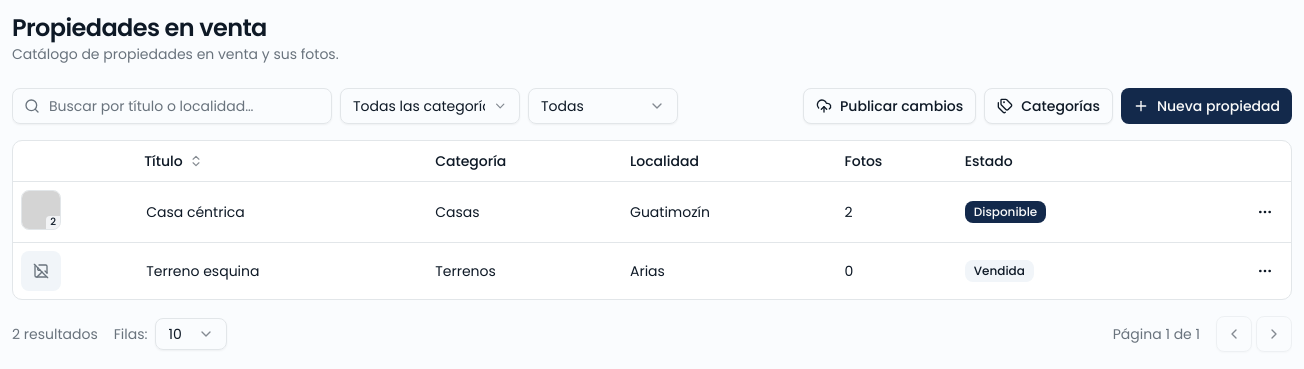
it: SalesPropertiesPage › filtra por vendidas
Check: the text "Casa céntrica" is shown, box left=138, top=181, right=427, bottom=242
Click the dropdown named "Filtrar por estado".
click(603, 106)  # box left=528, top=88, right=678, bottom=124
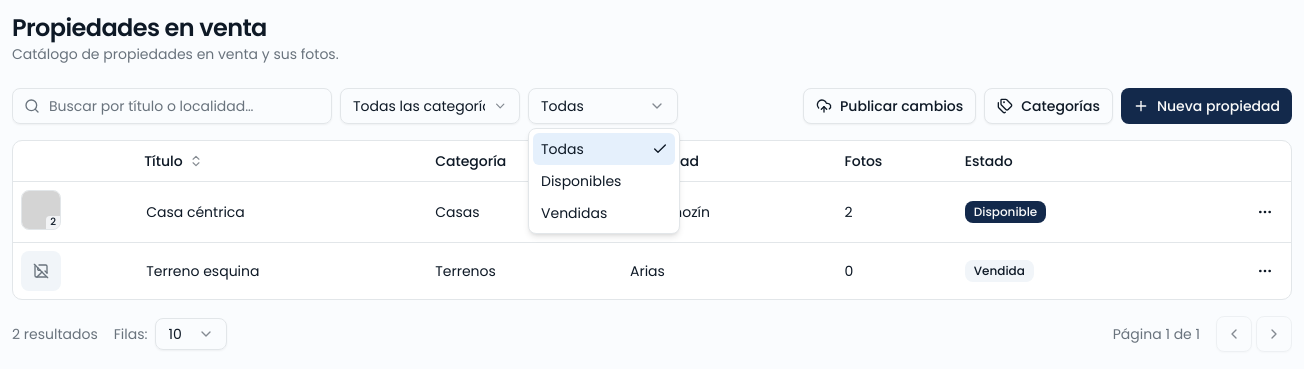
Click the option "Vendidas".
click(574, 213)  # box left=541, top=203, right=607, bottom=223
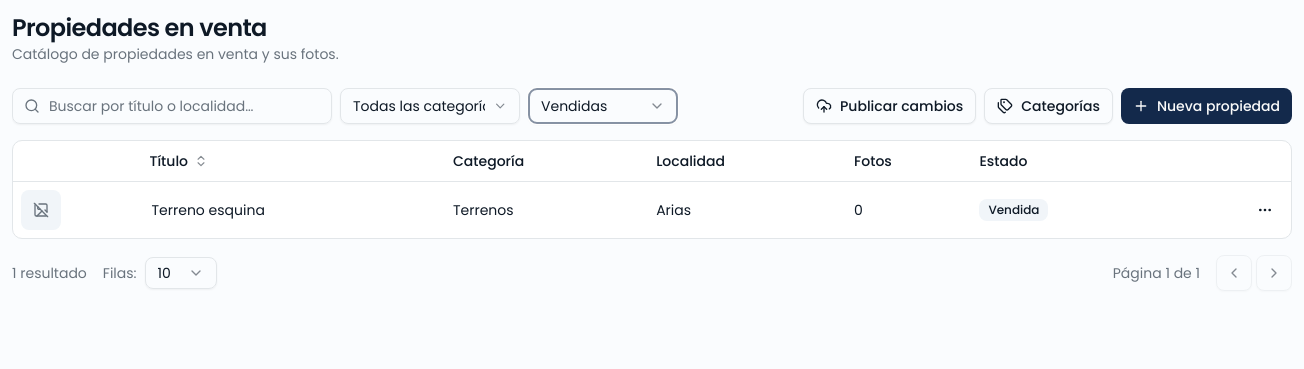
Check: the text "Terreno esquina" is shown, box left=144, top=181, right=445, bottom=238
Check: the text "Casa céntrica" is gone
